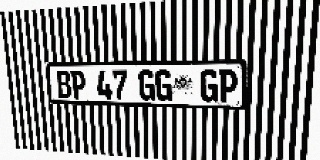4: (96, 70, 112, 100)
7: (112, 70, 128, 100)
B: (56, 70, 72, 99)
G: (200, 69, 218, 102), (138, 70, 155, 101), (155, 70, 172, 101)
P: (218, 69, 238, 102), (70, 70, 86, 99)
